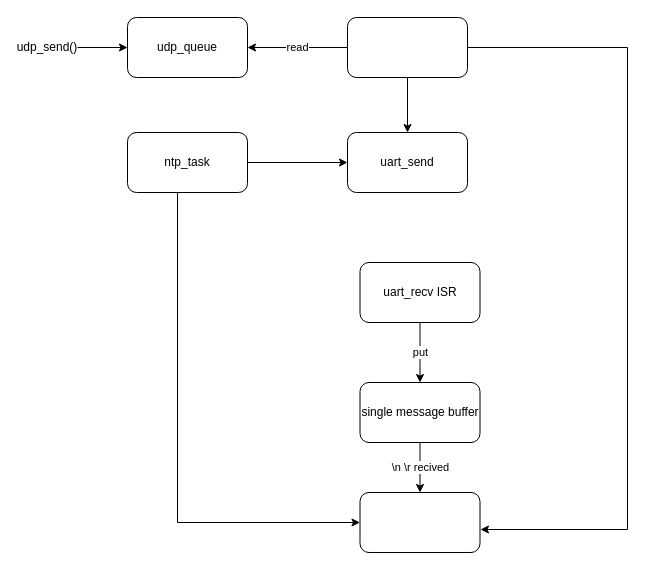
This 653x570 diagram has some shape labels left out. The shapes that lost their labels are listed below. From the top down, each one's centre as x and y in pixels, then its label:
At (407,47): "udp_send_task".
At (419,522): "uart answer queue".
